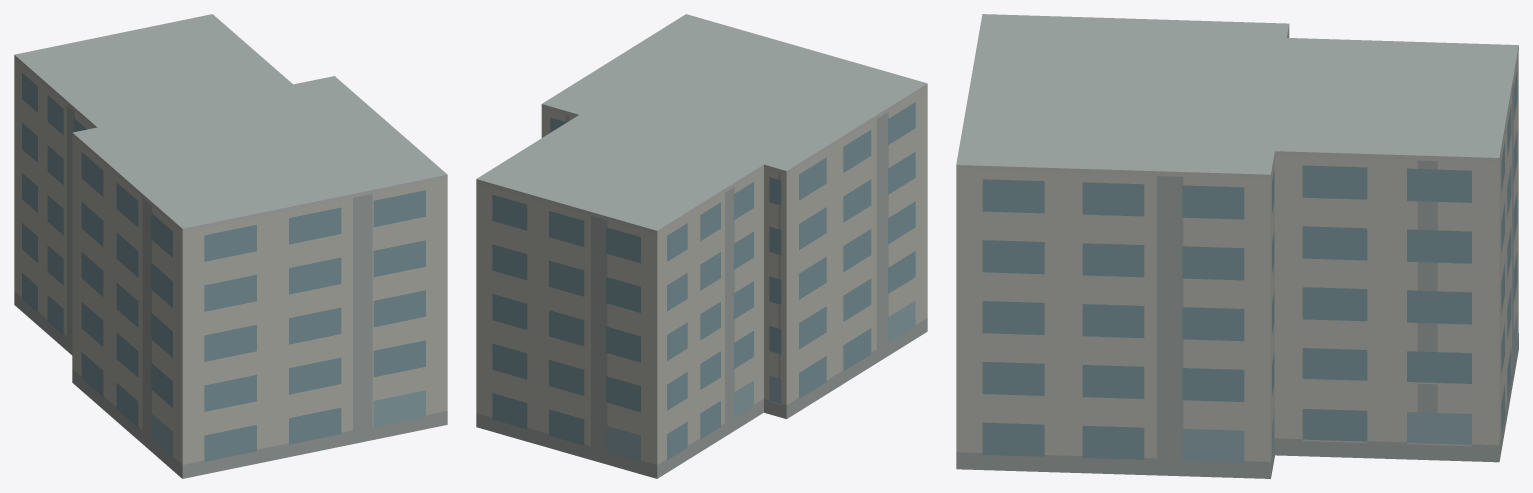
Rendered from residential-13d665ff-530e-4690-a1f2-17d7d8b3d9d5.glb.
The picture shows the model from 3 angles, left to right: view 1: azimuth 30°, elevation 25°; view 2: azimuth 150°, elevation 25°; view 3: azimuth 270°, elevation 25°; orthographic projection. The views are drawn at different scales.
Visible parts, largest first — view 1: residential-13d665ff-530e-4690-a1f2-17d7d8b3d9d5.tmp; view 2: residential-13d665ff-530e-4690-a1f2-17d7d8b3d9d5.tmp; view 3: residential-13d665ff-530e-4690-a1f2-17d7d8b3d9d5.tmp.
Boxes of the visible parts, left/top/right/bottom form: residential-13d665ff-530e-4690-a1f2-17d7d8b3d9d5.tmp: left=14, top=14, right=447, bottom=478; residential-13d665ff-530e-4690-a1f2-17d7d8b3d9d5.tmp: left=476, top=14, right=927, bottom=478; residential-13d665ff-530e-4690-a1f2-17d7d8b3d9d5.tmp: left=956, top=14, right=1518, bottom=478.
Bounding box in the file's own units: 17.28 × 15.25 × 25.57.
